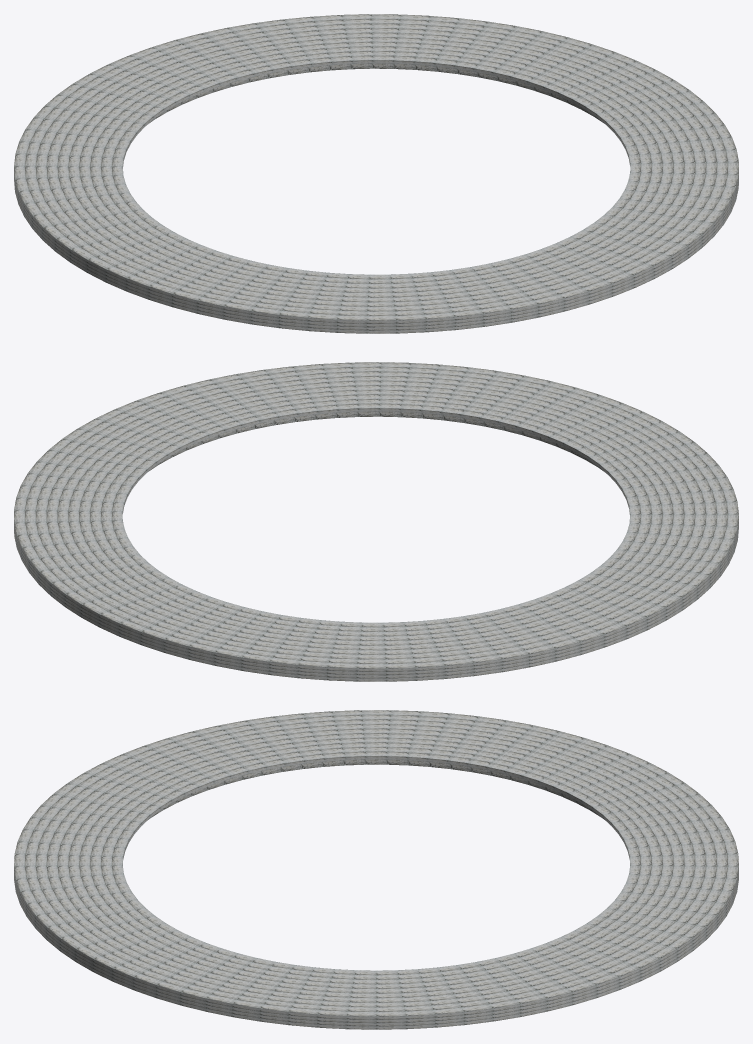
3 renders of one model, top to bottom at view 1: azimuth 30°, elevation 25°; view 2: azimuth 150°, elevation 25°; view 3: azimuth 270°, elevation 25°, orthographic.
Visible parts, largest first — view 1: circle_02; view 2: circle_02; view 3: circle_02.
Boxes of the visible parts, x1,y1,x2,y2 form: circle_02: [14, 14, 738, 333]; circle_02: [14, 362, 738, 681]; circle_02: [14, 710, 738, 1029].
Bounding box in the file's own units: 2999 × 60.2 × 2999.
